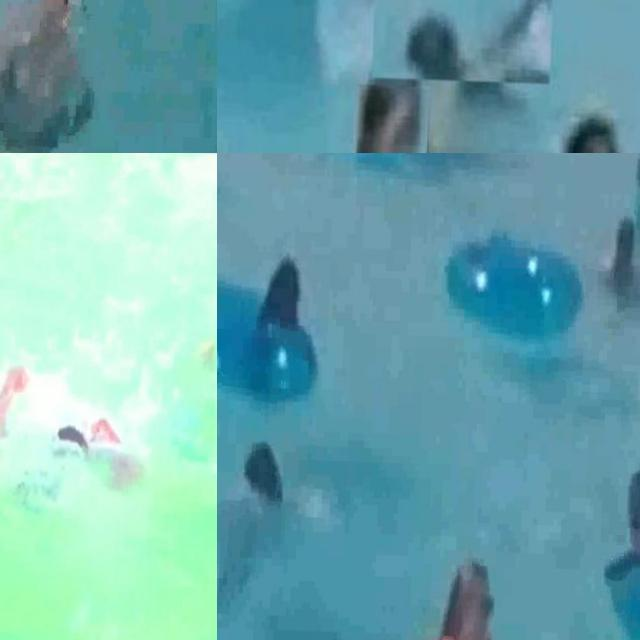drowning: (0, 341, 144, 506), (217, 415, 346, 581), (0, 0, 109, 153), (370, 0, 557, 84)
swimming: (217, 248, 343, 379), (387, 547, 538, 640), (595, 451, 640, 585), (353, 83, 432, 153), (554, 116, 627, 153)
